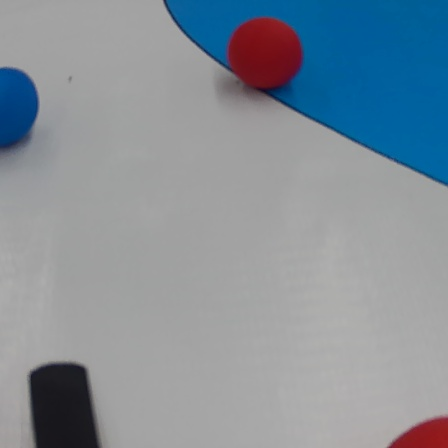blue: (0, 57, 40, 148)
blue_base: (163, 0, 446, 194)
red: (230, 15, 306, 90), (386, 414, 447, 448)
